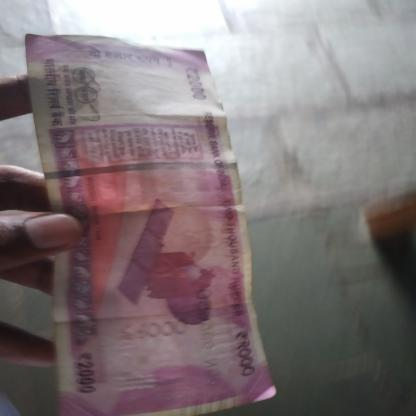New2000Back: (44, 34, 260, 410)
